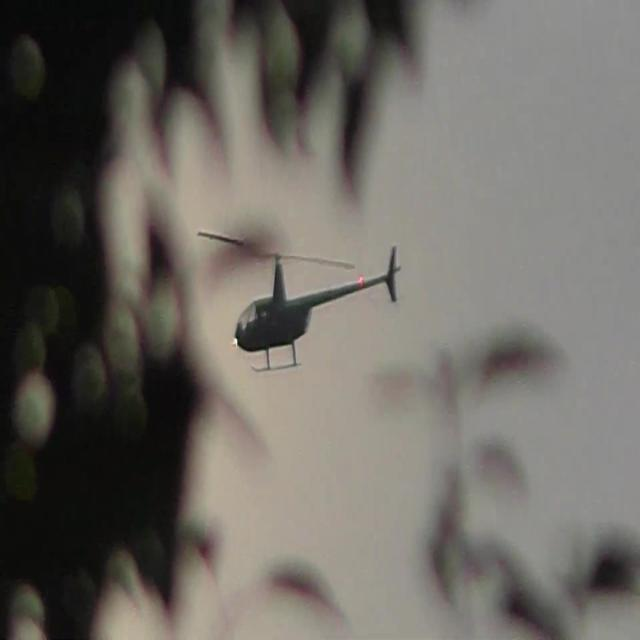CIV_HELO: (236, 243, 401, 374)
